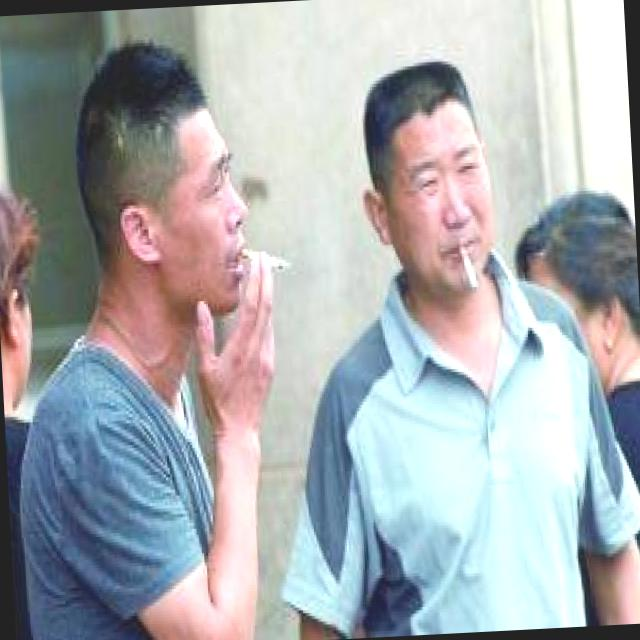cigarette: (238, 242, 294, 280), (458, 245, 481, 290)
